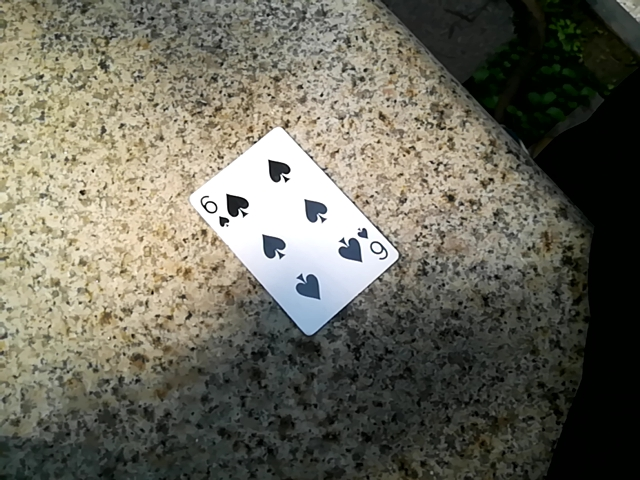ht 6: (187, 129, 386, 344)
